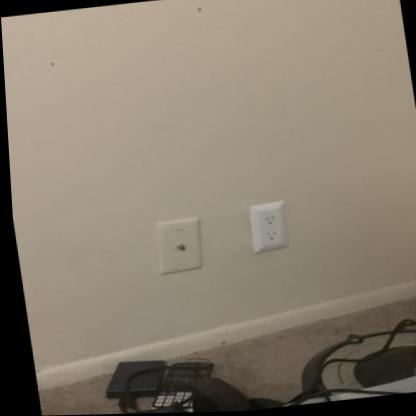OUTLET: (247, 200, 291, 253)
